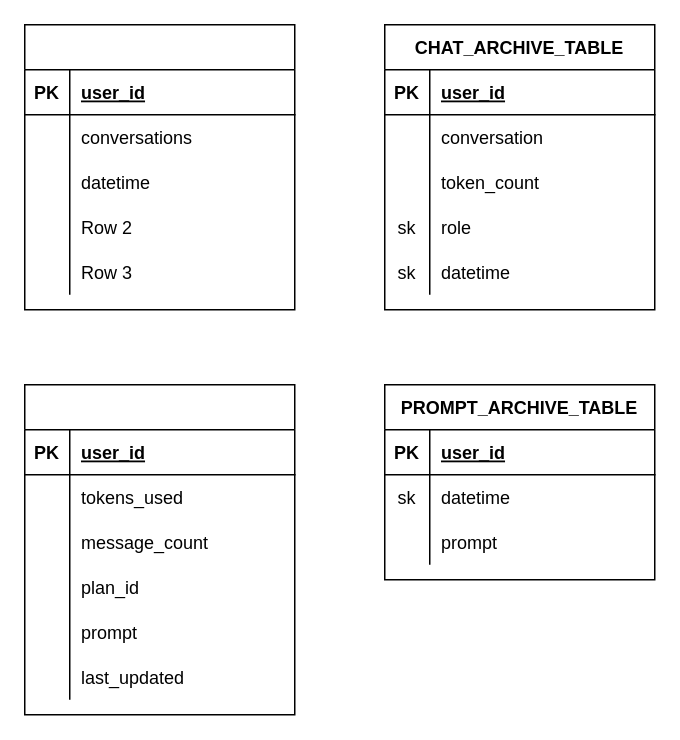
The diagram is 680 pixels wide and 740 high, and some of its shapes have lost their labels. The box of each missing label's shape, as (x1, y1, x2, y2) in pixels:
CHAT_HISTORY_TABLE: (23, 23, 295, 310)
USER_DATA_TABLE: (23, 383, 295, 715)
